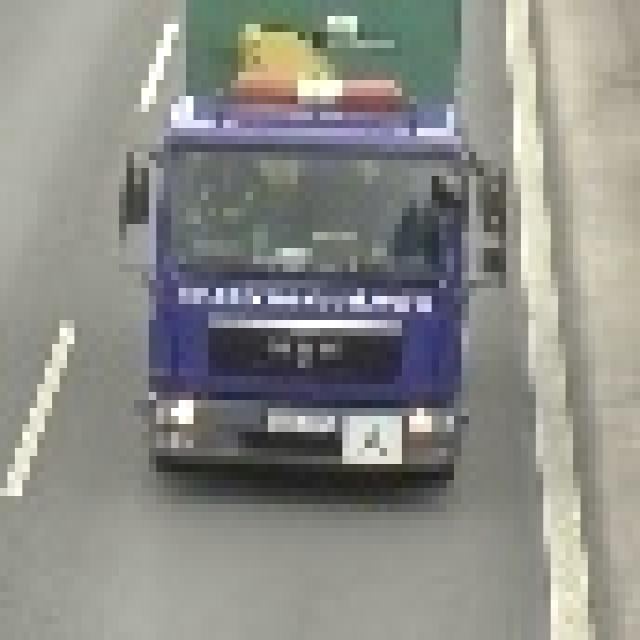truck: (113, 1, 507, 473)
